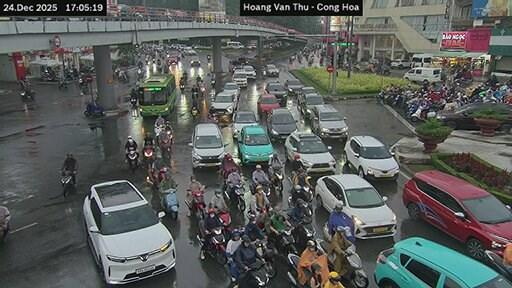motorbike: (198, 220, 227, 265), (345, 244, 368, 286), (291, 210, 314, 250), (252, 238, 275, 277), (268, 226, 297, 256), (483, 251, 511, 279), (240, 259, 268, 287), (287, 253, 308, 287), (159, 184, 178, 219), (224, 183, 245, 211), (187, 190, 205, 219), (217, 210, 230, 237), (300, 184, 313, 210), (60, 171, 71, 196), (250, 181, 268, 196), (83, 103, 103, 116), (272, 167, 281, 194), (159, 126, 172, 144), (160, 135, 170, 157), (143, 144, 153, 165), (128, 148, 137, 171), (316, 238, 329, 252), (0, 216, 6, 243), (79, 76, 88, 93), (19, 90, 34, 100), (322, 221, 329, 242), (42, 71, 57, 80), (154, 125, 163, 138), (58, 77, 67, 89), (118, 71, 128, 81), (208, 112, 217, 122), (191, 106, 198, 118), (288, 194, 294, 206), (130, 98, 137, 108), (199, 84, 204, 97), (137, 67, 143, 77), (345, 229, 354, 235), (192, 90, 198, 99), (492, 242, 502, 247), (288, 55, 294, 63), (307, 58, 313, 66), (181, 73, 186, 81), (179, 82, 182, 93), (210, 79, 214, 86), (329, 256, 332, 265), (207, 54, 210, 61), (291, 190, 295, 192), (329, 253, 332, 255), (345, 225, 346, 228)
